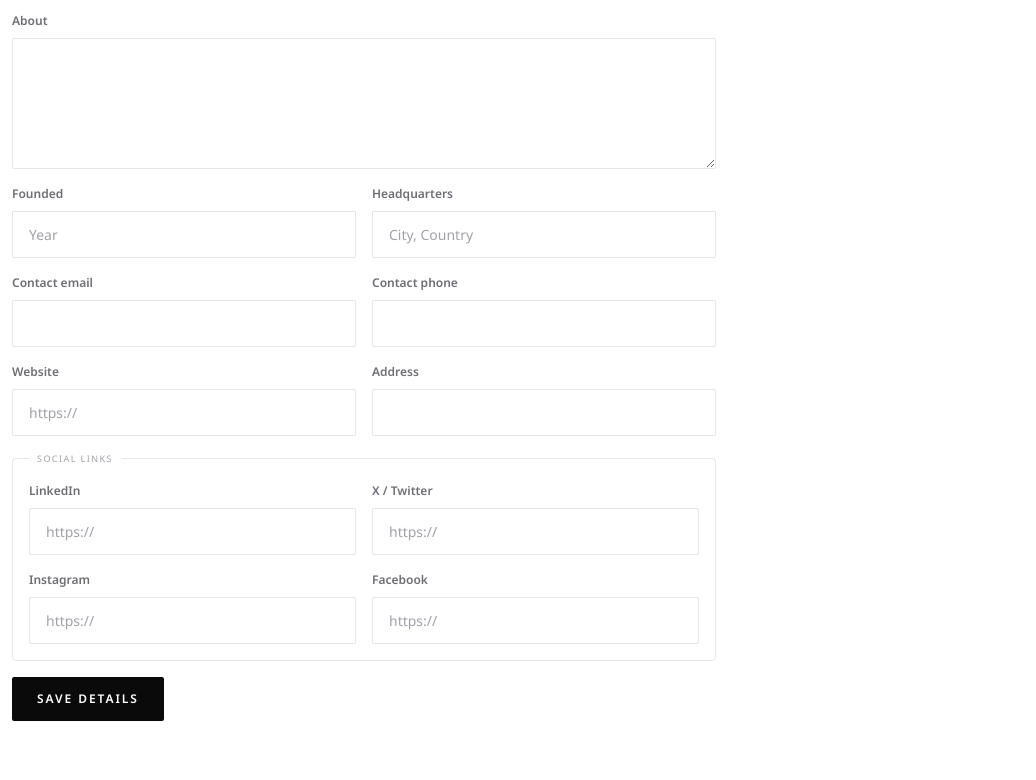
Test: AgencyProfileForm › submits the mapped payload and reports success
This screenshot has width=1036, height=780.
In the text box labelled "About": [364, 104] box [12,38,716,169], type "  We build software  "
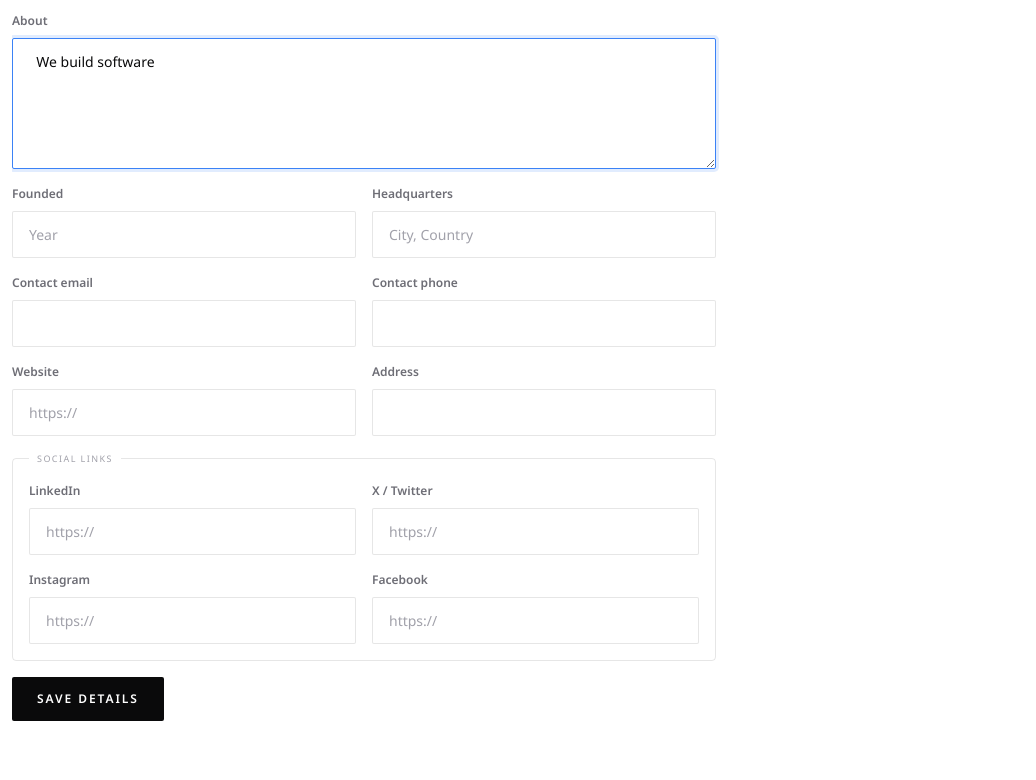
In the number field labelled "Founded": [184, 234] box [12,211,356,258], type "2019"
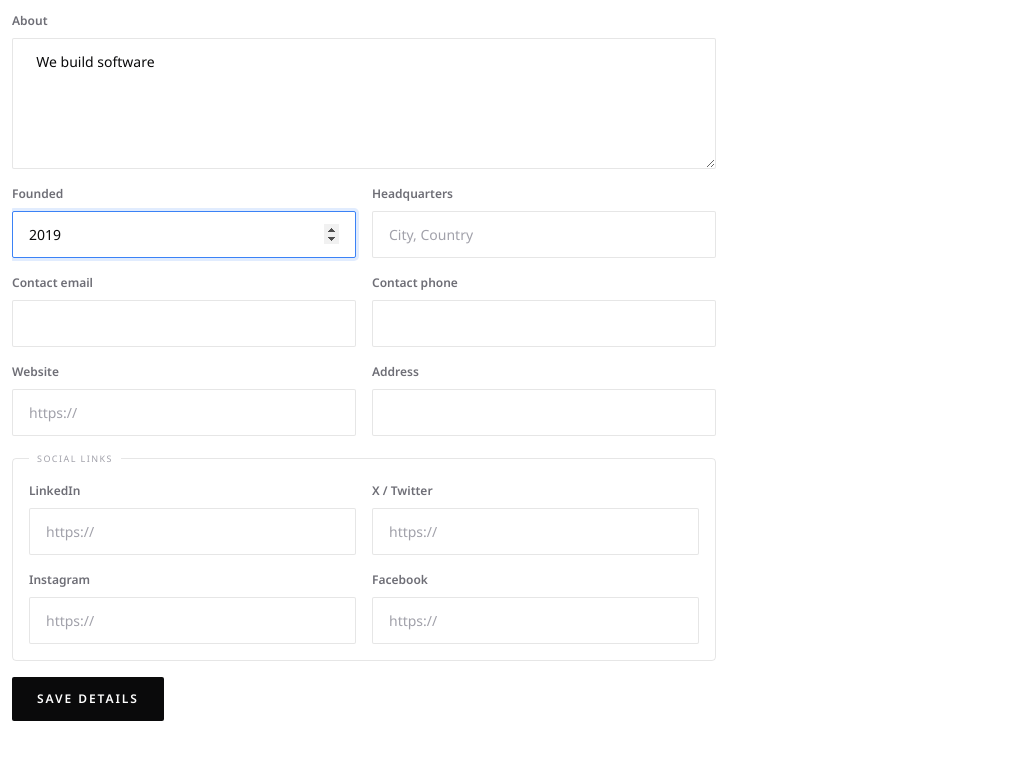
In the field labelled "Contact email": [184, 324] box [12,300,356,347], type "hi@acme.test"
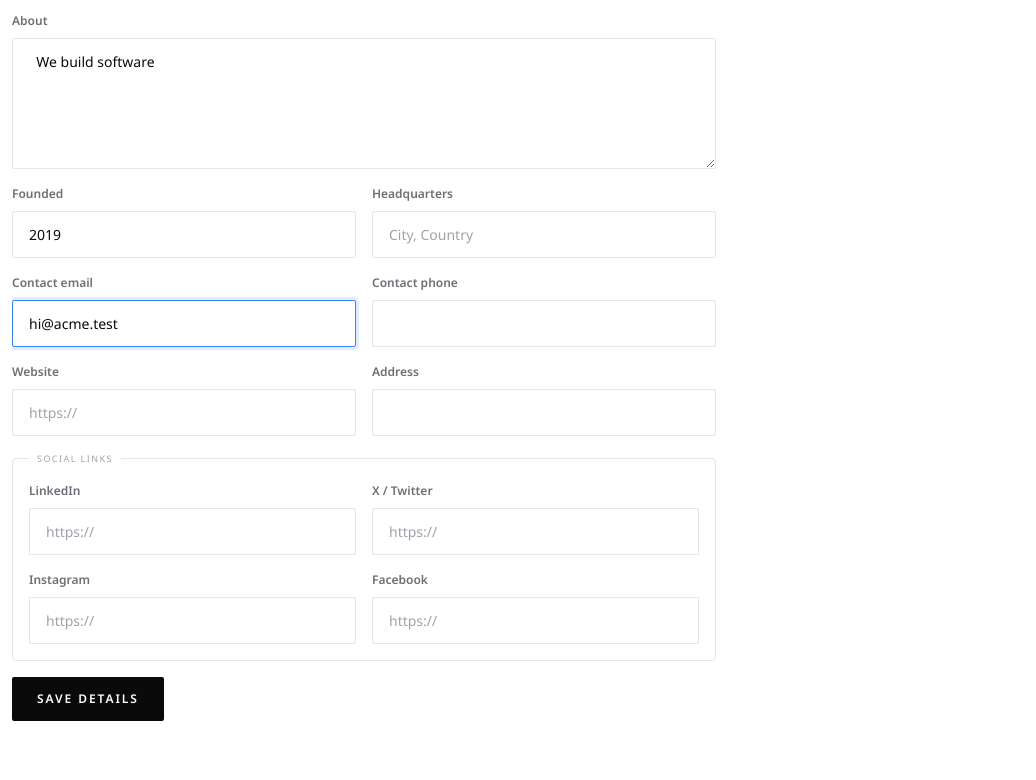
Click the button "Save details": [88, 698] box [12,676,164,720]
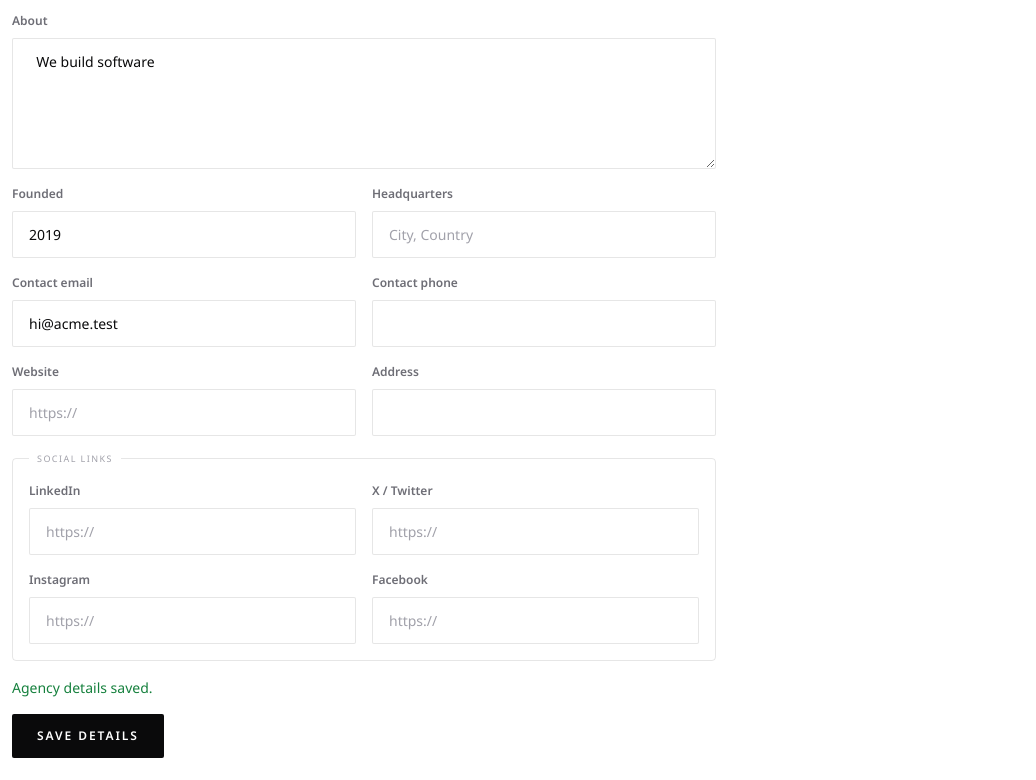
Expected: the text "Agency details saved." is shown, [12,678,152,696]
